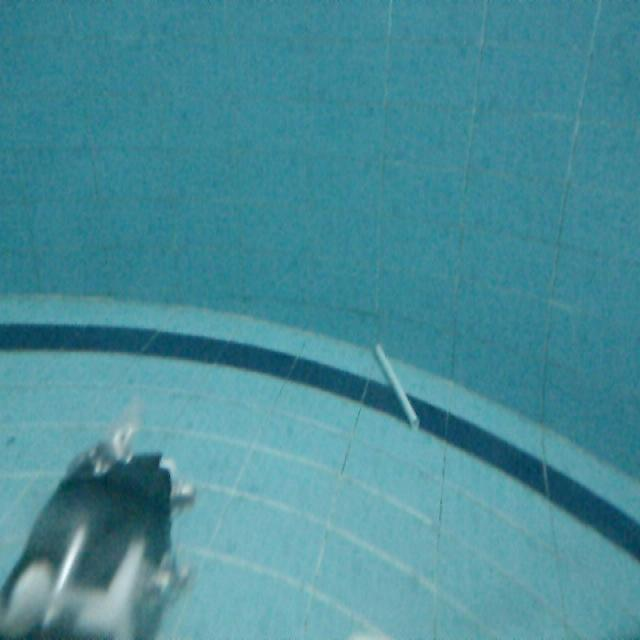Cube: (371, 340, 424, 436)
